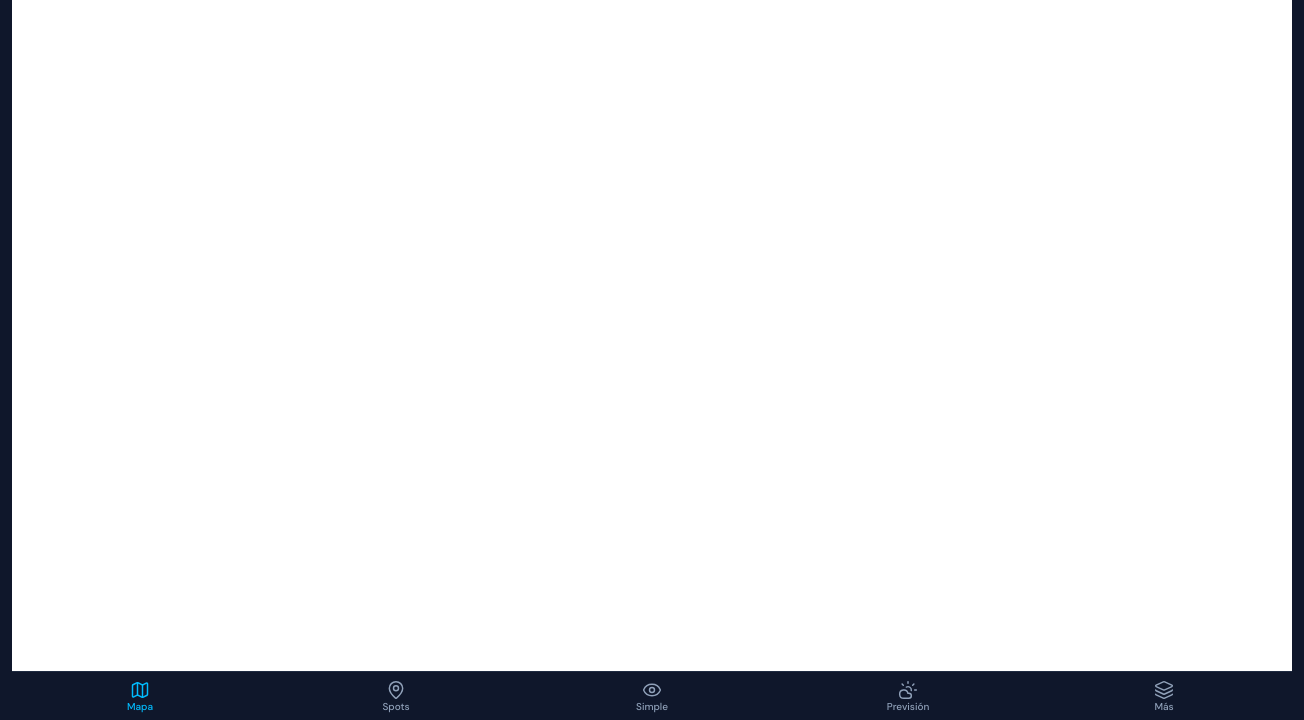
Test case: MobileBottomNav › "Más" menu › Escape closes the menu
Click the button "Más" at (1164, 696), box x1=1036 y1=672 x2=1292 y2=719
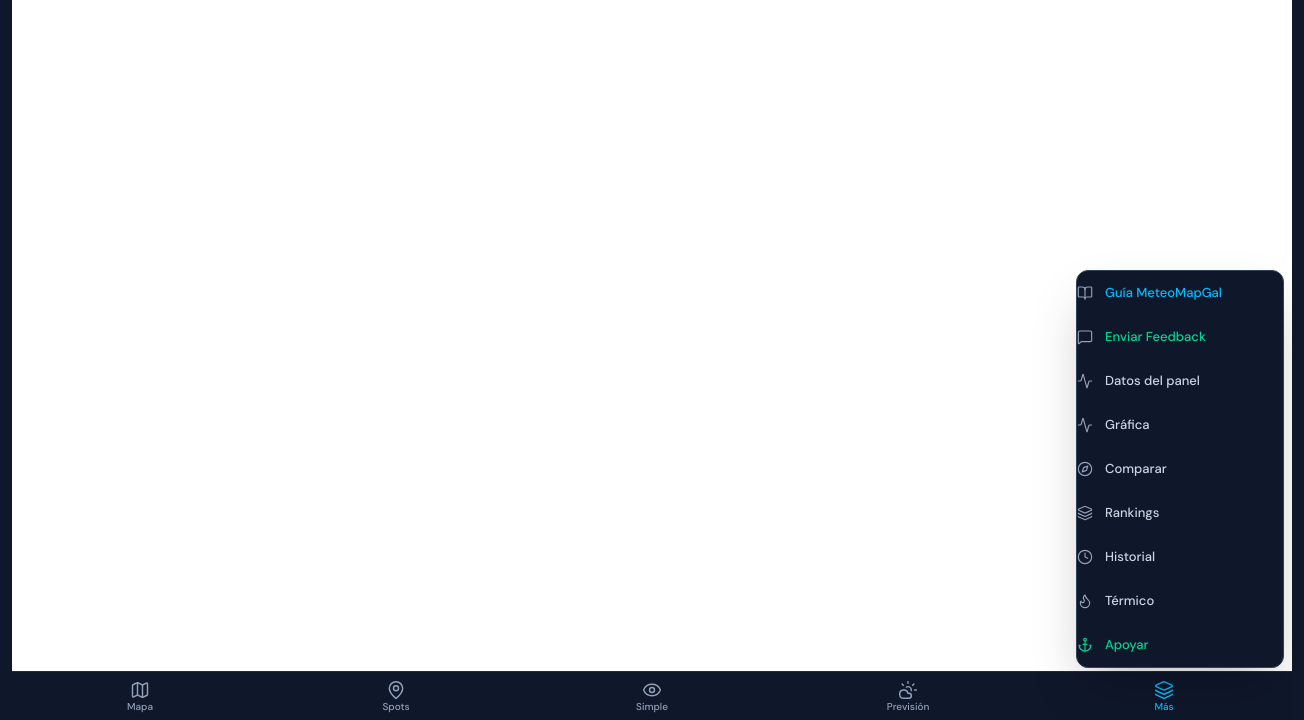
Expected: the text "Guía MeteoMapGal" is shown, x1=1105 y1=283 x2=1222 y2=303
Press Escape
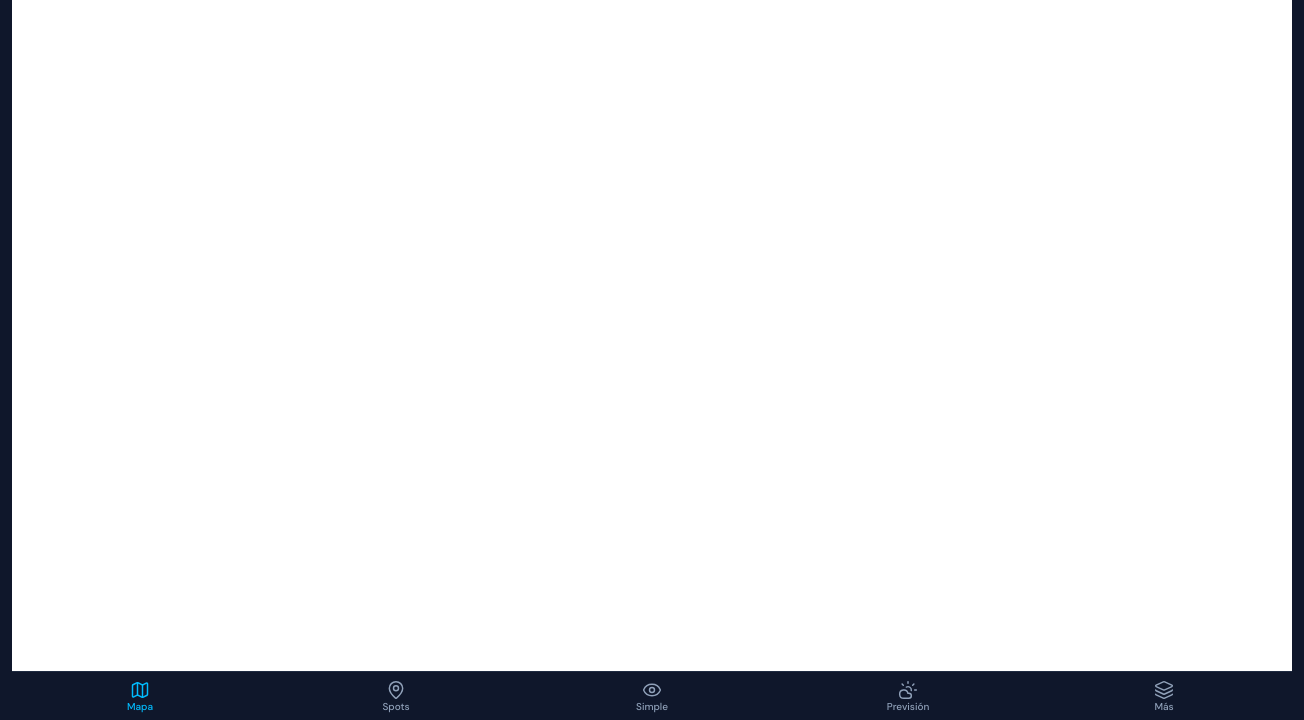
Expected: the button "Guía MeteoMapGal" is gone
Expected: the button "Más" is collapsed, x1=1036 y1=672 x2=1292 y2=719
